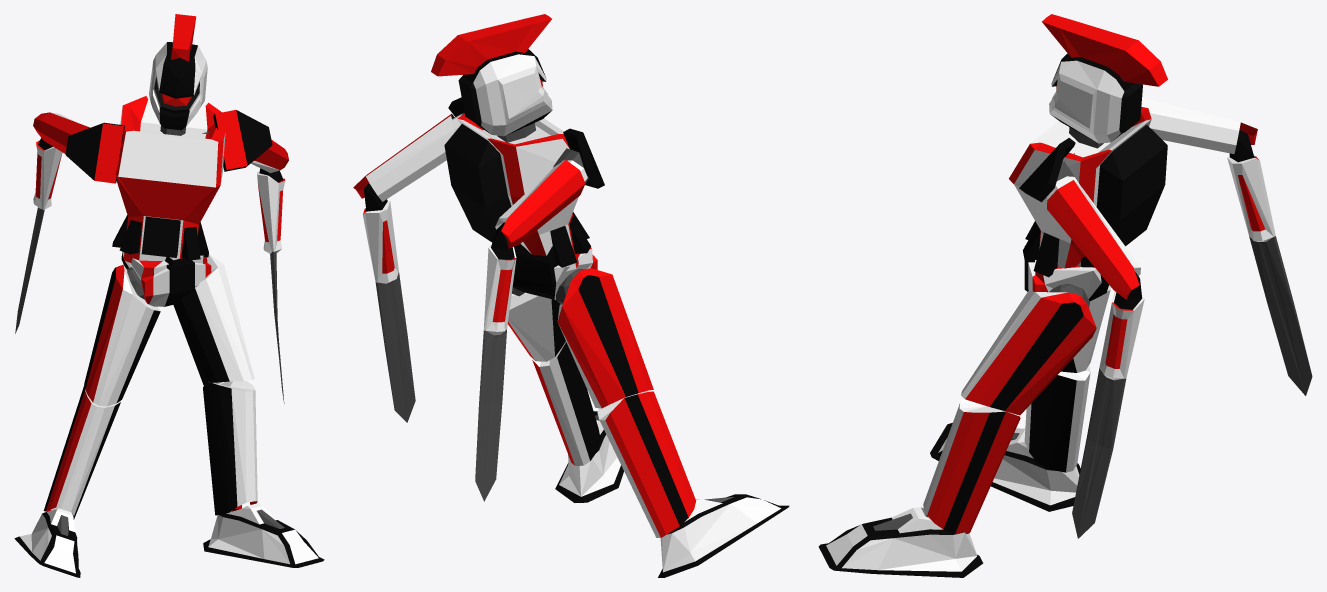
File: robots_000002.obj
3 renders of one model, left to right at view 1: azimuth 30°, elevation 25°; view 2: azimuth 150°, elevation 25°; view 3: azimuth 270°, elevation 25°, orthographic. The views are drawn at different scales.
Visible parts, largest first — view 1: Chest_plate_Cube.004, R_Shin.002_Cube.029, R_Thigh.002_Cube.027, R_Thigh_Cube.005, Head_gladiator_Cube.024, R_Foot.002_Cube.035, R_Shin_Cube.007, R_Forearm.001_Cube.028, R_Forearm.002_Cube.033, Pelvis_Cube.006, R_Foot_Cube, R_Arm.002_Cube.032 (+1 smaller); view 2: Chest_plate_Cube.004, R_Forearm.001_Cube.028, Head_gladiator_Cube.024, R_Forearm.002_Cube.033, R_Thigh_Cube.005, R_Shin_Cube.007, R_Foot_Cube, R_Shin.002_Cube.029, R_Thigh.002_Cube.027, R_Foot.002_Cube.035, Pelvis_Cube.006, R_Arm.002_Cube.032; view 3: Chest_plate_Cube.004, R_Forearm.002_Cube.033, R_Forearm.001_Cube.028, Head_gladiator_Cube.024, R_Thigh.002_Cube.027, R_Foot.002_Cube.035, R_Shin.002_Cube.029, R_Shin_Cube.007, R_Foot_Cube, Pelvis_Cube.006, R_Arm.003_Cube.034, R_Thigh_Cube.005.
Boxes of the visible parts, <box> form: Chest_plate_Cube.004: <box>112,95,225,262</box>; R_Shin.002_Cube.029: <box>203,381,257,515</box>; R_Thigh.002_Cube.027: <box>173,254,254,385</box>; R_Thigh_Cube.005: <box>84,264,160,406</box>; Head_gladiator_Cube.024: <box>149,14,207,130</box>; R_Foot.002_Cube.035: <box>203,503,324,567</box>; R_Shin_Cube.007: <box>43,385,121,519</box>; R_Forearm.001_Cube.028: <box>15,112,89,333</box>; R_Forearm.002_Cube.033: <box>251,139,288,403</box>; Pelvis_Cube.006: <box>121,251,211,306</box>; R_Foot_Cube: <box>14,508,80,577</box>; R_Arm.002_Cube.032: <box>65,122,124,183</box>; Chest_plate_Cube.004: <box>444,113,590,271</box>; R_Forearm.001_Cube.028: <box>475,159,585,501</box>; Head_gladiator_Cube.024: <box>431,14,552,136</box>; R_Forearm.002_Cube.033: <box>353,113,454,422</box>; R_Thigh_Cube.005: <box>557,268,653,408</box>; R_Shin_Cube.007: <box>597,391,695,537</box>; R_Foot_Cube: <box>658,494,789,577</box>; R_Shin.002_Cube.029: <box>531,341,600,465</box>; R_Thigh.002_Cube.027: <box>508,292,565,361</box>; R_Foot.002_Cube.035: <box>555,411,623,502</box>; Pelvis_Cube.006: <box>512,244,597,299</box>; R_Arm.002_Cube.032: <box>553,128,604,188</box>; Chest_plate_Cube.004: <box>1009,106,1167,277</box>; R_Forearm.002_Cube.033: <box>1047,180,1144,538</box>; R_Forearm.001_Cube.028: <box>1141,98,1312,395</box>; Head_gladiator_Cube.024: <box>1042,14,1167,143</box>; R_Thigh.002_Cube.027: <box>961,290,1096,415</box>; R_Foot.002_Cube.035: <box>818,507,983,577</box>; R_Shin.002_Cube.029: <box>923,398,1020,533</box>; R_Shin_Cube.007: <box>1024,365,1090,472</box>; R_Foot_Cube: <box>930,423,1080,511</box>; Pelvis_Cube.006: <box>1024,246,1108,301</box>; R_Arm.003_Cube.034: <box>1019,138,1080,202</box>; R_Thigh_Cube.005: <box>1061,285,1110,372</box>.
Bounding box in the file's own units: 2.2 × 3.12 × 2.51.
